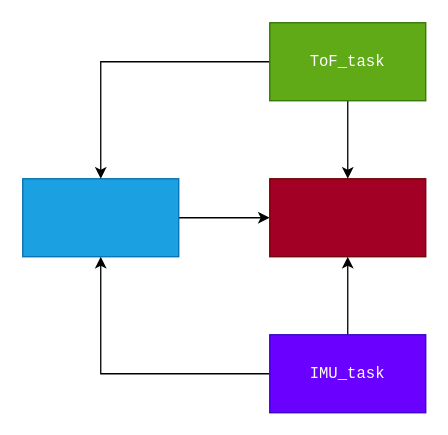
Image size: 448x435. Some labels were removed from this diagram. The shapes that lost their labels are listed below. From the top down, each one's box as (x1, y1, x2, y2) in pixels, then its label:
(21, 177, 179, 257): algo_task
(268, 177, 426, 257): control_task
